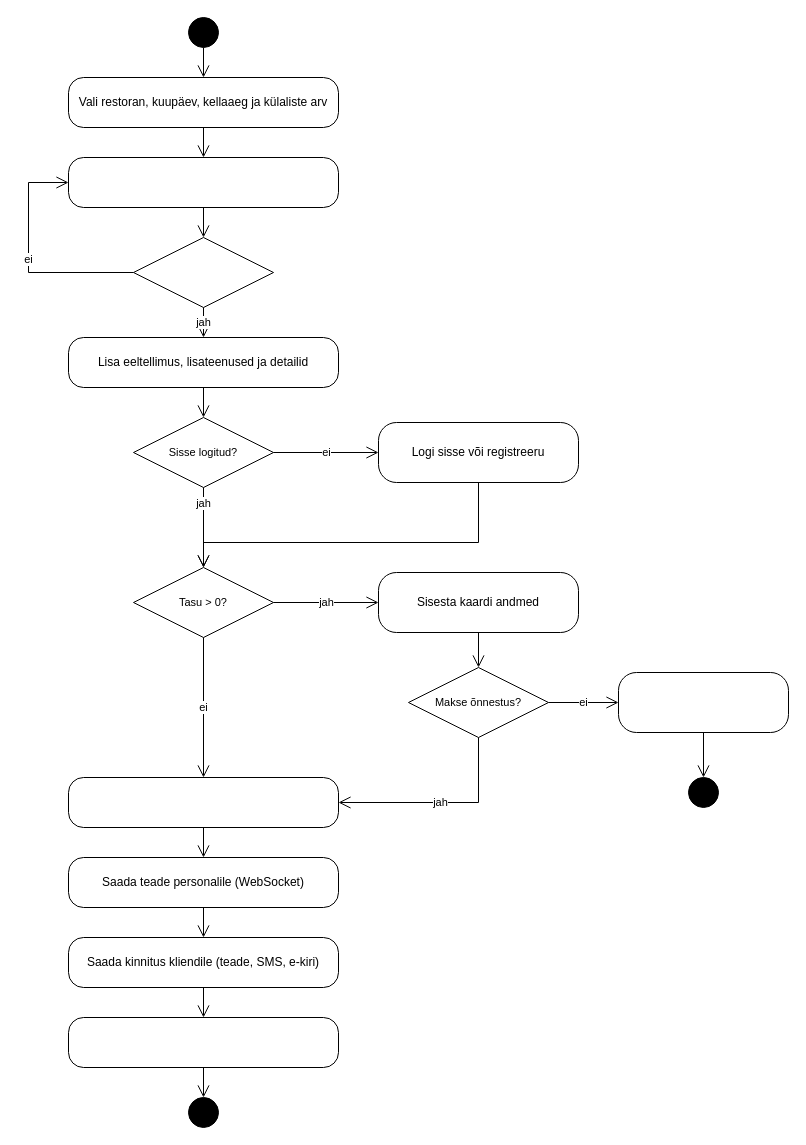
This 806x1145 diagram has some shape labels left out. The centre of each missing label's shape, as x and y in pixels:
"Laud on vaba?" goes at point (203, 272).
"Näita kviitungit" goes at point (203, 1042).
"Näita veateadet" goes at point (703, 702).
"Salvesta broneering andmebaasi" goes at point (203, 802).
"Vali laud plaanilt või võta pakutud laud" goes at point (203, 182).
